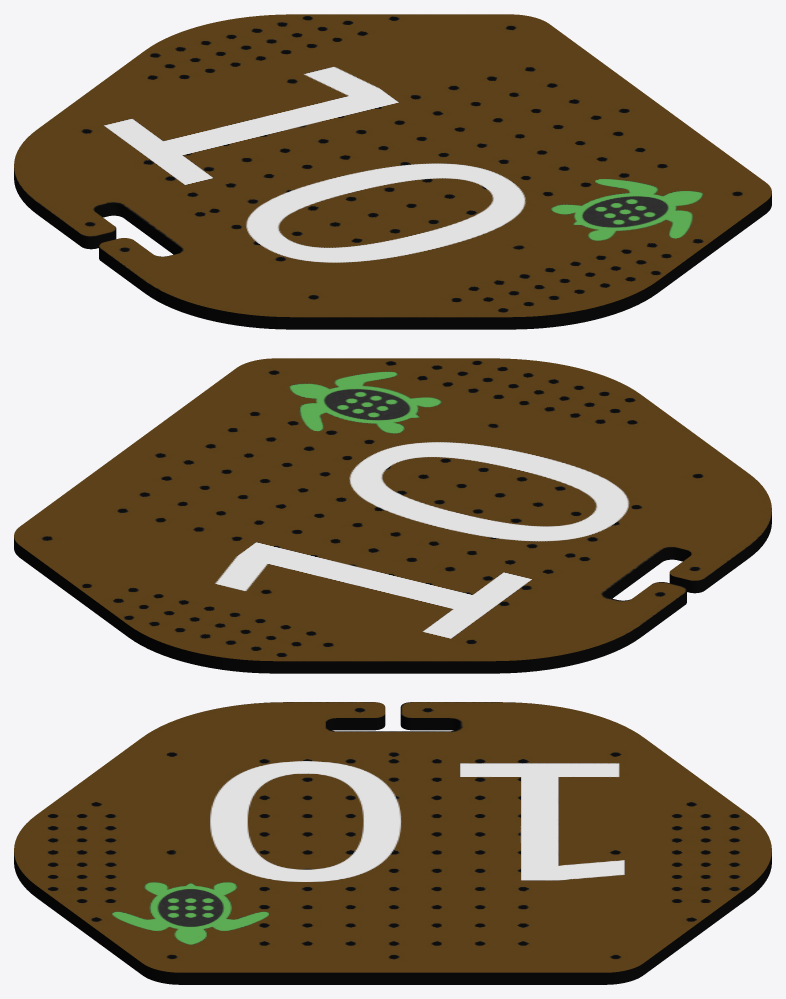
File: plate_top_brown.dae
3 views of the same model, one above another, from view 1: azimuth 30°, elevation 25°; view 2: azimuth 150°, elevation 25°; view 3: azimuth 270°, elevation 25° (orthographic). The views are drawn at different scales.
Parts seen in each view (by area): view 1: _f_stack; view 2: _f_stack; view 3: _f_stack.
Part boxes in pixels (x1,y1,x2,y2): _f_stack: (14,14,771,329); _f_stack: (14,358,771,673); _f_stack: (14,702,771,984).
Size of the model in its own units: 0.2873 by 0.34 by 0.006.
Materials: 1 (1 with a texture image).
